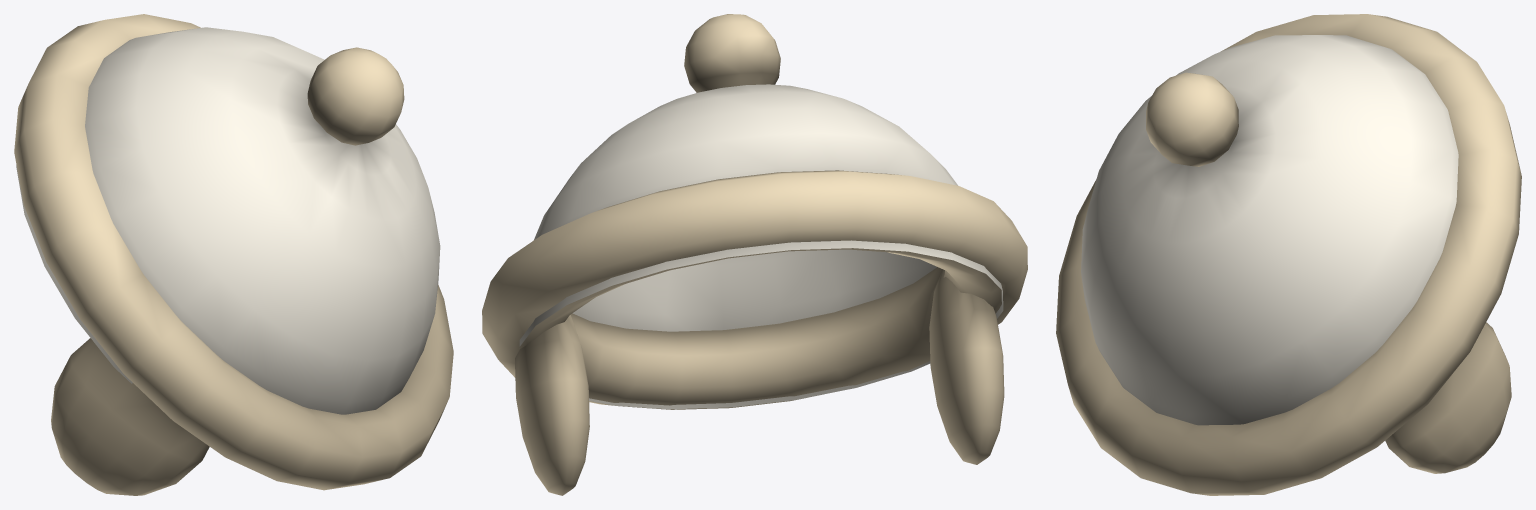
File: polar_head.fbx
The picture shows the model from 3 angles, left to right: view 1: azimuth 30°, elevation 25°; view 2: azimuth 150°, elevation 25°; view 3: azimuth 270°, elevation 25°; orthographic projection. The views are drawn at different scales.
Parts seen in each view (by area): view 1: polar_head; view 2: polar_head; view 3: polar_head.
Boxes of the visible parts, bbox=[...] form: polar_head: bbox=[14, 14, 453, 495]; polar_head: bbox=[482, 14, 1027, 495]; polar_head: bbox=[1056, 14, 1521, 495].
Size of the model in its own units: 1.33 by 1.19 by 1.28.
